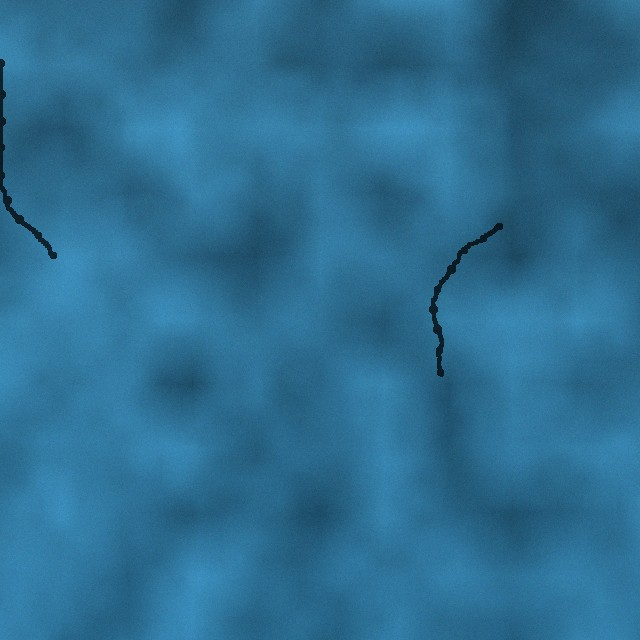crack: (428, 222, 503, 378), (0, 56, 57, 259)
